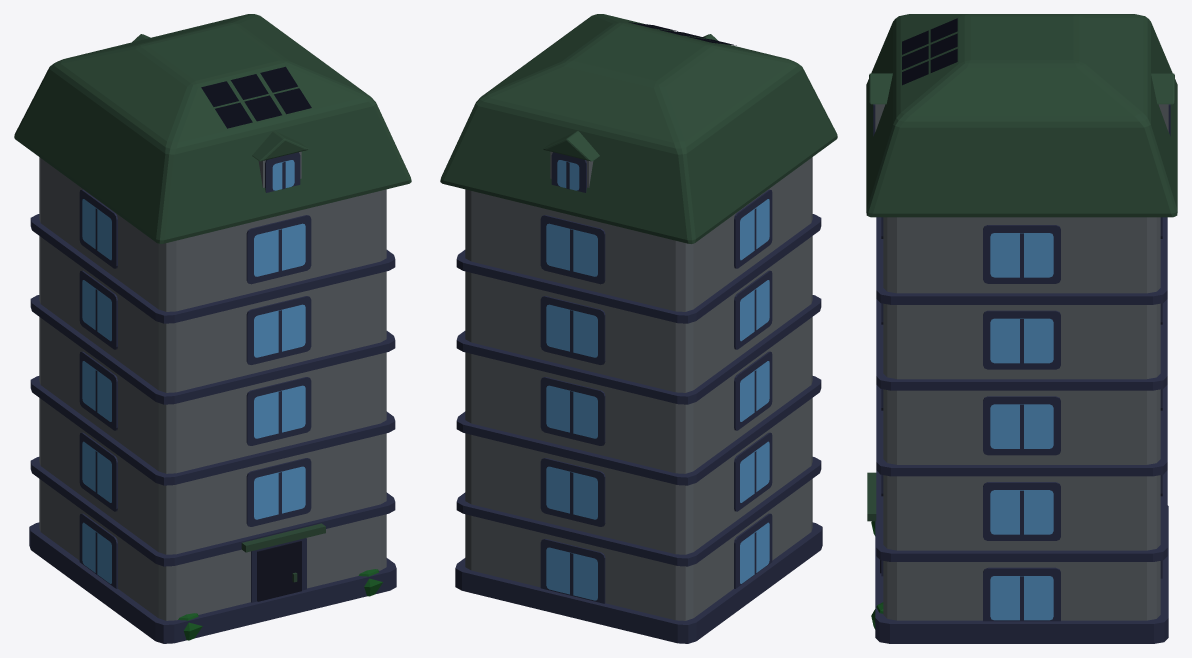
Rendered from house-1x1-5f-mansard-d-solar.glb.
3 views of the same model, side by side, from view 1: azimuth 30°, elevation 25°; view 2: azimuth 150°, elevation 25°; view 3: azimuth 270°, elevation 25° (orthographic). The views are drawn at different scales.
Visible parts, largest first — view 1: house-1x1-5f-mansard-d-solar; view 2: house-1x1-5f-mansard-d-solar; view 3: house-1x1-5f-mansard-d-solar.
Part boxes in pixels (bbox=[...]): house-1x1-5f-mansard-d-solar: bbox=[14, 14, 411, 643]; house-1x1-5f-mansard-d-solar: bbox=[440, 14, 837, 643]; house-1x1-5f-mansard-d-solar: bbox=[866, 14, 1177, 643].
Bounding box in the file's own units: 0.9876 × 1.9 × 0.9876.
Materials: 1 (1 with a texture image).
